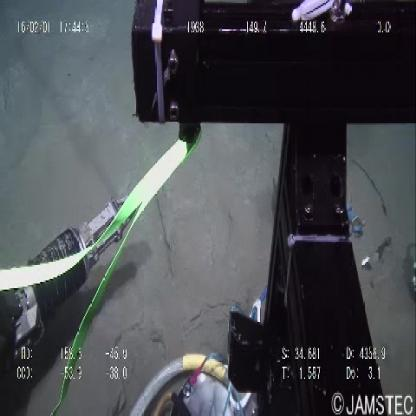Rov: (132, 3, 415, 416), (1, 182, 145, 379)
